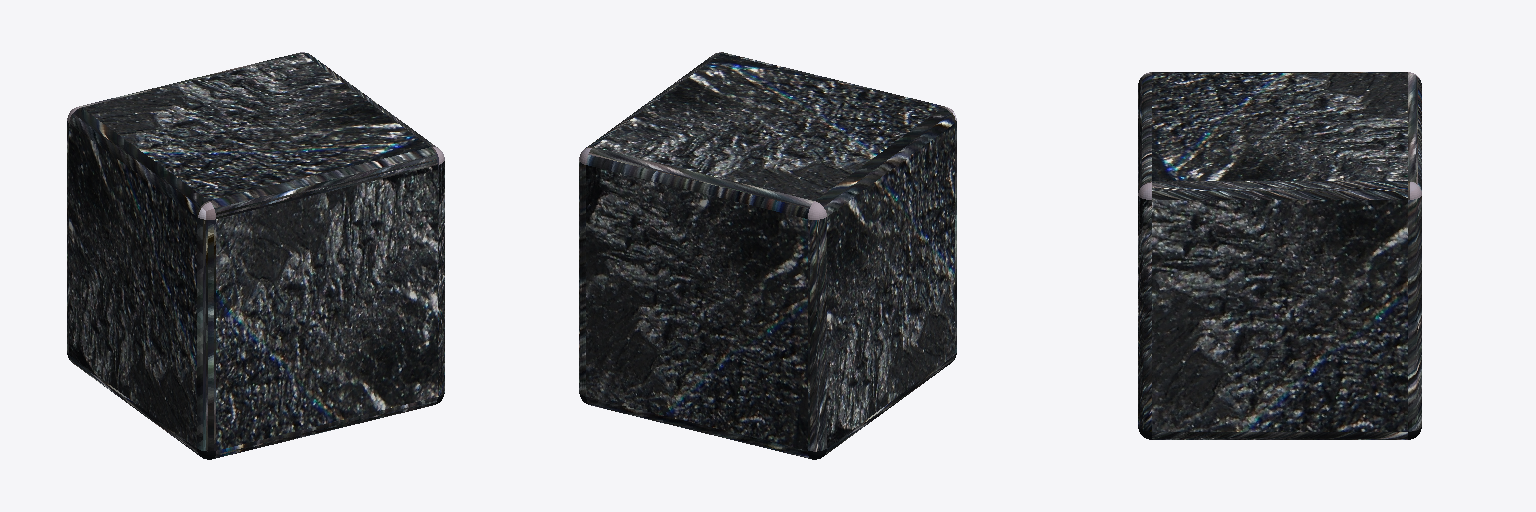
The picture shows the model from 3 angles: view 1: azimuth 30°, elevation 25°; view 2: azimuth 150°, elevation 25°; view 3: azimuth 270°, elevation 25°; orthographic projection.
Visible parts, largest first — view 1: Cube; view 2: Cube; view 3: Cube.
Boxes of the visible parts, x1,y1,x2,y2 form: Cube: [67, 52, 444, 459]; Cube: [579, 52, 956, 459]; Cube: [1138, 72, 1421, 439].
Size of the model in its own units: 2 by 2 by 2.
Materials: 1 (1 with a texture image).